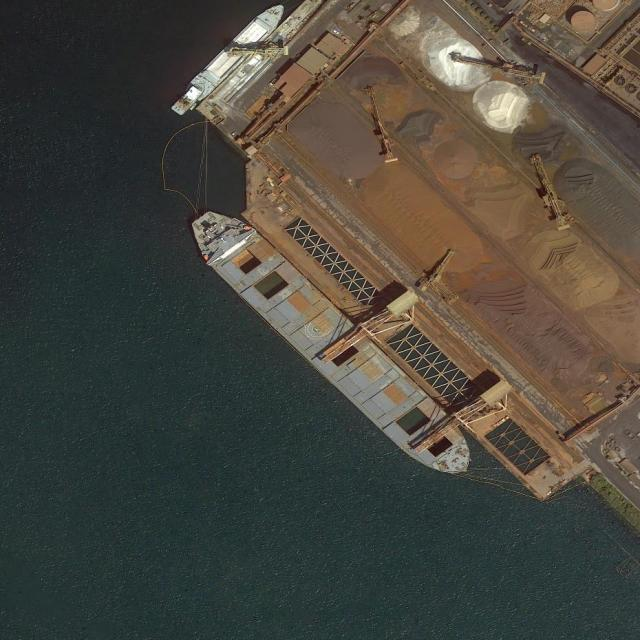Cargo: (178, 194, 486, 495)
